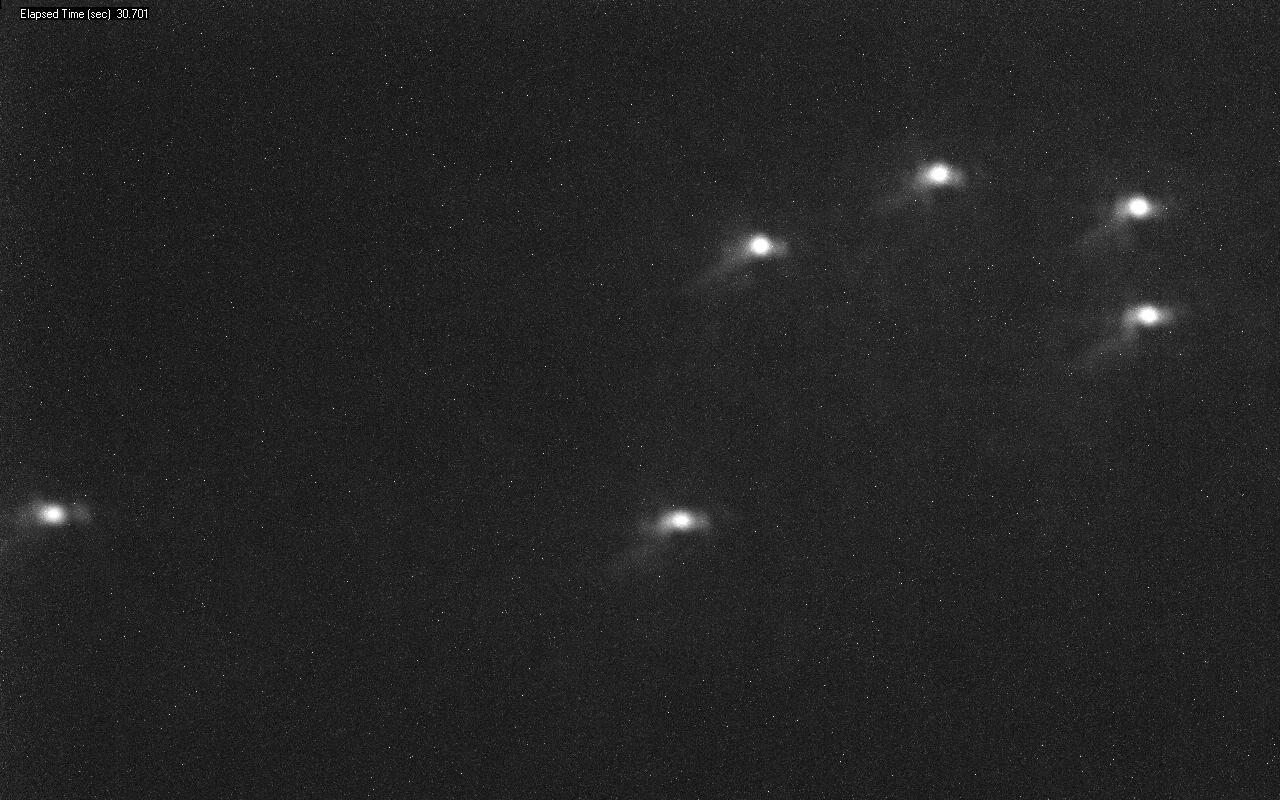Bead: (919, 162, 960, 187), (35, 503, 72, 526), (1121, 195, 1154, 219), (748, 235, 781, 257), (1133, 306, 1166, 325), (663, 512, 695, 529)
